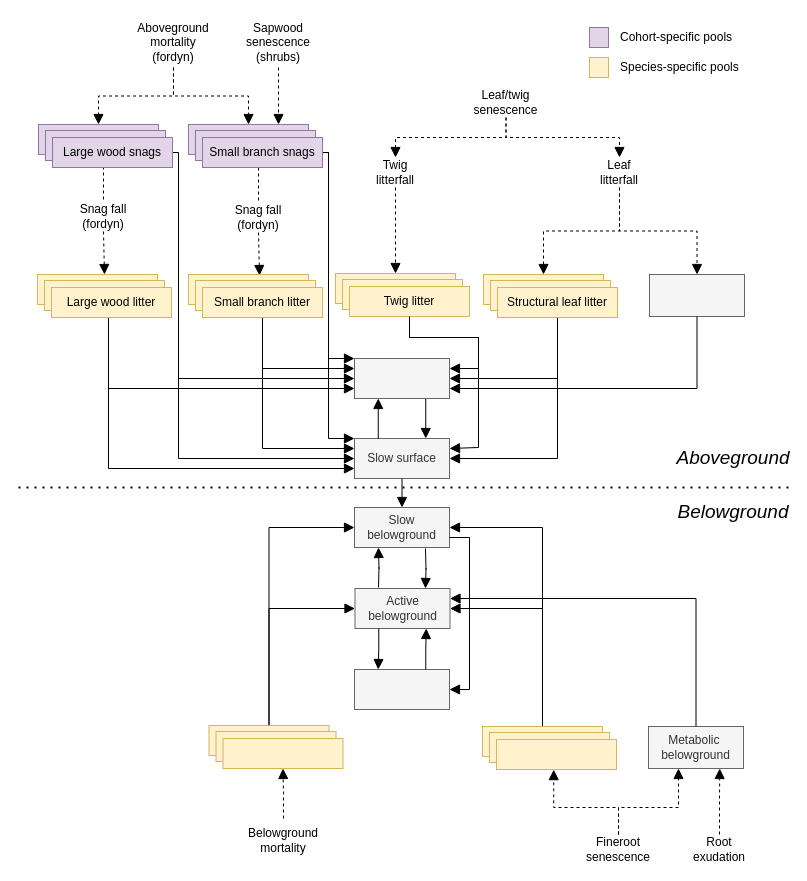
Some shapes in this 807 by 881 pixel diagram are drawn without their labels. Each missing label, with the centre of its shape:
Active surface: (x=402, y=378)
Coarse root litter: (x=282, y=753)
Metabolic surface: (x=696, y=295)
Passive belowground: (x=402, y=689)
Structural fineroot litter: (x=556, y=754)
